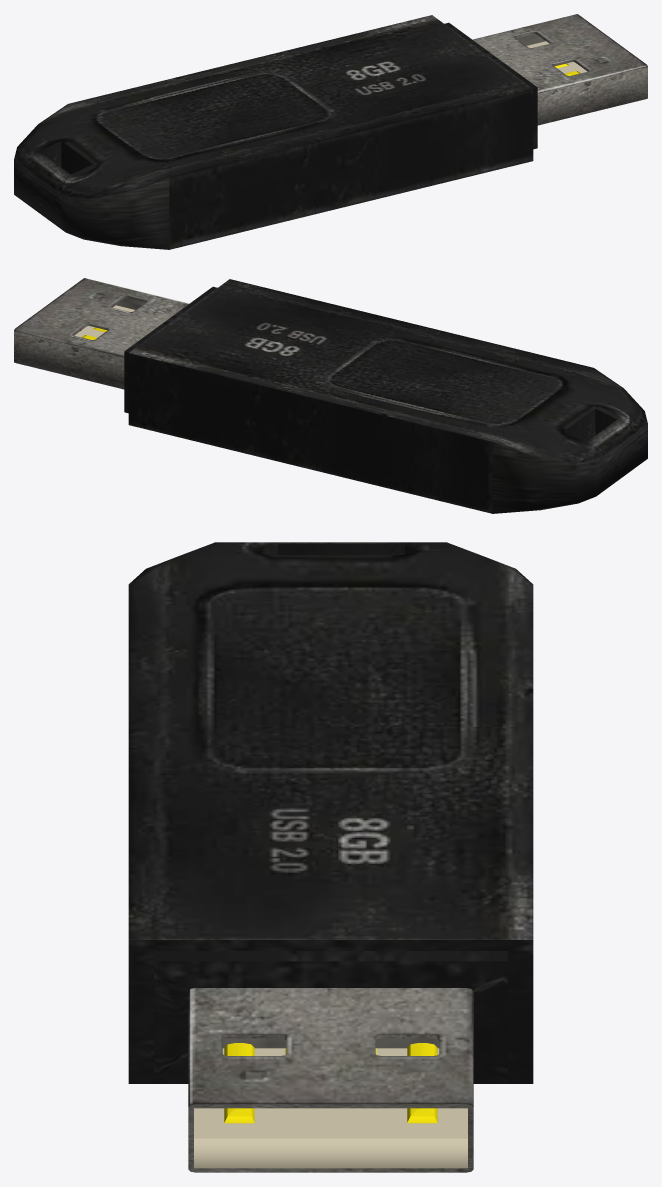
The model's file is usb.glb.
3 views of the same model, one above another, from view 1: azimuth 30°, elevation 25°; view 2: azimuth 150°, elevation 25°; view 3: azimuth 270°, elevation 25° (orthographic). The views are drawn at different scales.
Parts seen in each view (by area): view 1: Cube_0; view 2: Cube_0; view 3: Cube_0.
Boxes of the visible parts, box(x1,y1,x2,y2) form: Cube_0: box(14, 14, 647, 249); Cube_0: box(14, 278, 647, 513); Cube_0: box(128, 542, 533, 1172).
Bounding box in the file's own units: 2.97 × 0.3568 × 0.9099.
Materials: 4 (2 with a texture image).
